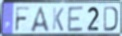2: (87, 6, 100, 32)
A: (30, 6, 52, 34)
D: (103, 6, 119, 33)
E: (67, 5, 85, 33)
F: (14, 6, 32, 33)
K: (52, 6, 65, 32)
